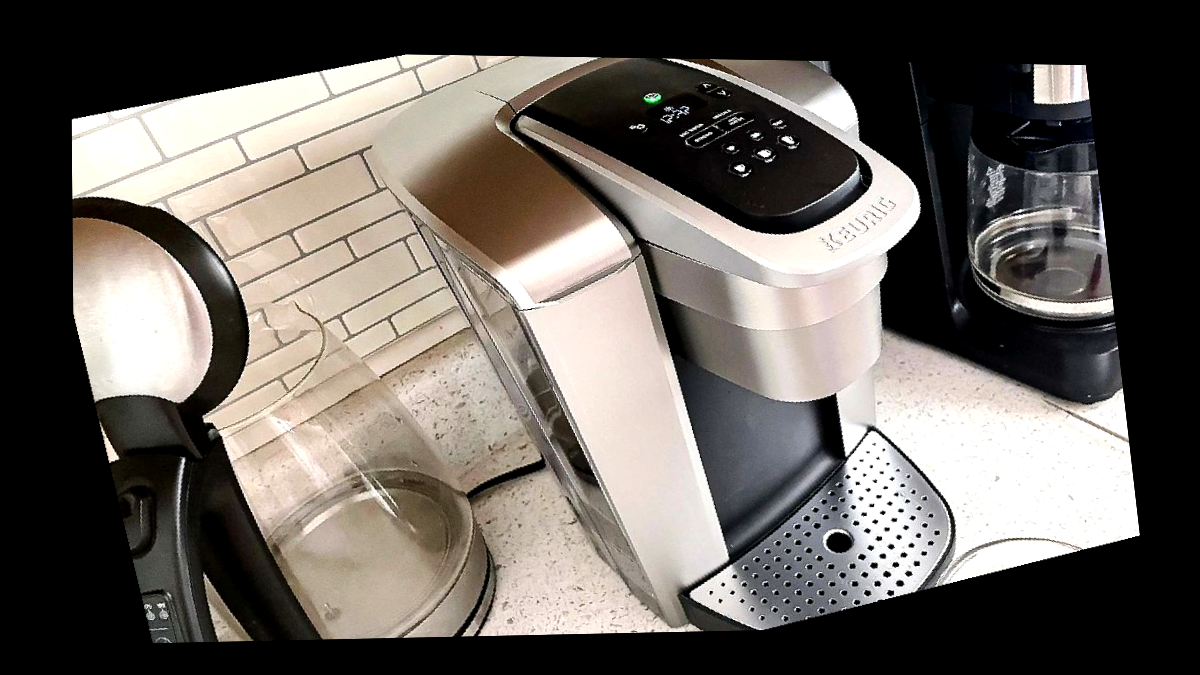10oz: (751, 144, 778, 163)
12oz: (776, 132, 803, 151)
4oz: (720, 142, 742, 155)
6oz: (744, 128, 766, 141)
8oz: (727, 160, 752, 179)
add_water: (673, 112, 709, 142)
descale: (706, 93, 741, 123)
hot: (714, 105, 752, 138)
iced: (768, 117, 789, 130)
power: (643, 91, 664, 104)
strong: (683, 121, 722, 157)
